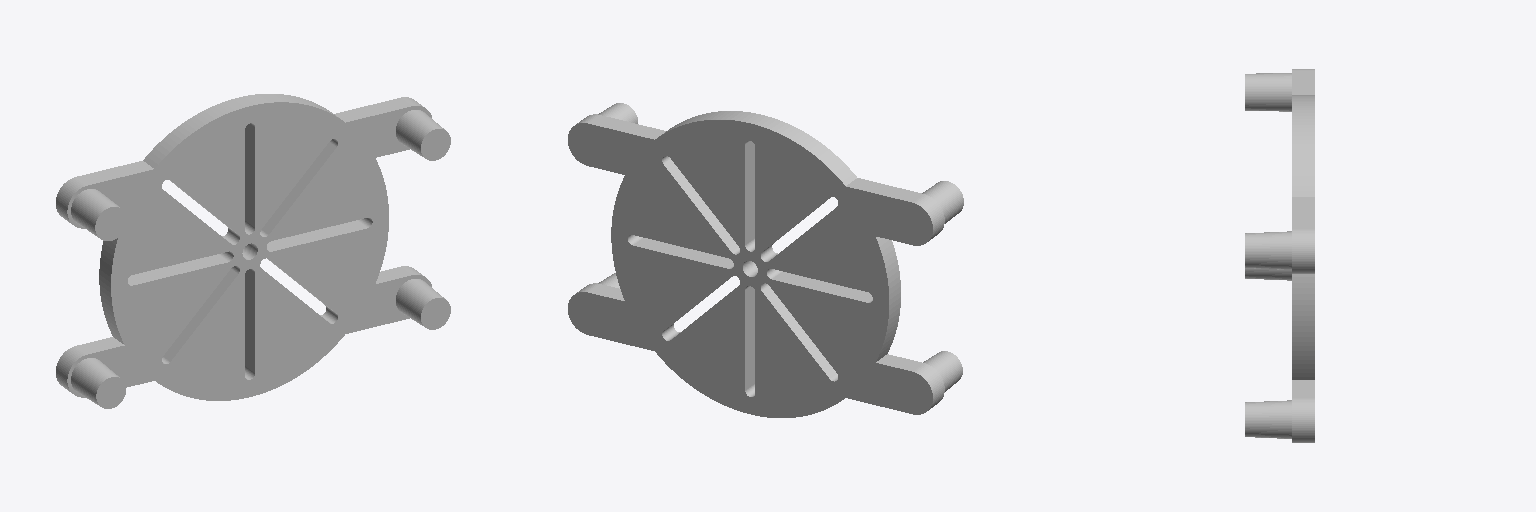
Rendered from V5_Laser Alignment Tool V2.obj.
3 renders of one model, left to right at view 1: azimuth 30°, elevation 25°; view 2: azimuth 150°, elevation 25°; view 3: azimuth 270°, elevation 25°, orthographic.
Parts seen in each view (by area): view 1: Solid1:8; view 2: Solid1:8; view 3: Solid1:8.
Boxes of the visible parts, <box> form: Solid1:8: <box>56,94,450,408</box>; Solid1:8: <box>568,103,963,417</box>; Solid1:8: <box>1245,69,1314,442</box>.
Size of the model in its own units: 44.8 by 34.1 by 7.5.